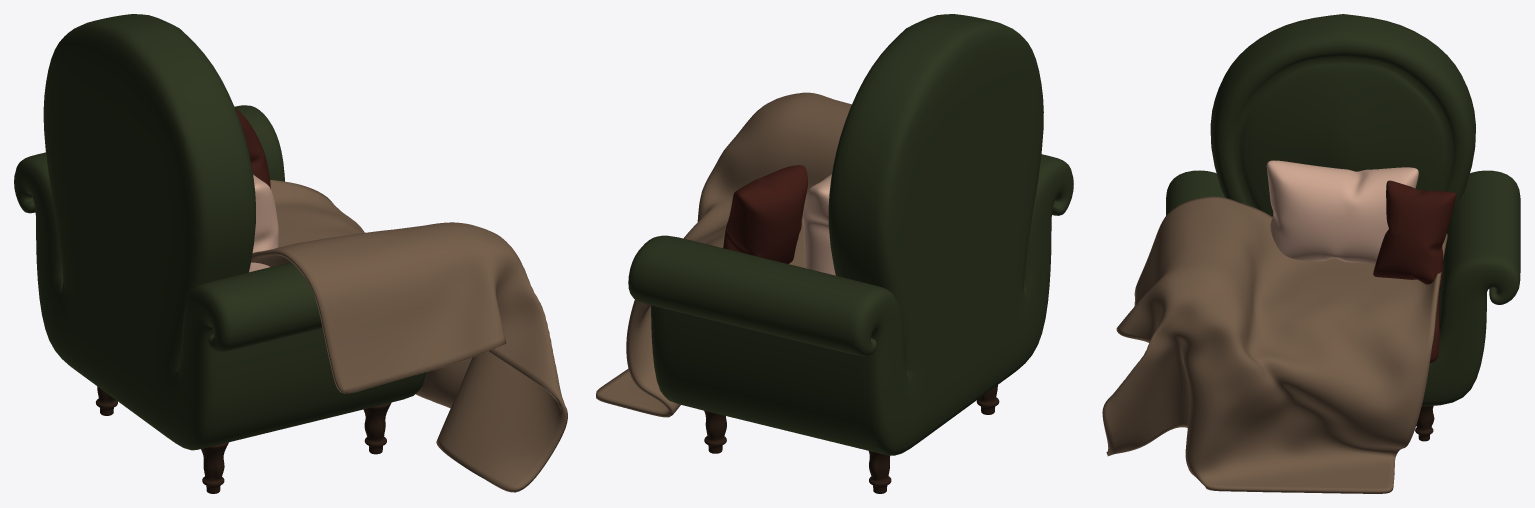
Rendered from chair_1.obj.
3 views of the same model, side by side, from view 1: azimuth 30°, elevation 25°; view 2: azimuth 150°, elevation 25°; view 3: azimuth 270°, elevation 25° (orthographic). The views are drawn at different scales.
Parts seen in each view (by area): view 1: Cube.059, Plane.002, Cylinder.008, Cube.062, Cube.061; view 2: Cube.059, Plane.002, Cube.061, Cube.062, Cylinder.008; view 3: Plane.002, Cube.059, Cube.062, Cube.061, Cylinder.008.
Boxes of the visible parts, x1,y1,x2,y2 form: Cube.059: (14,14,426,450); Plane.002: (251,180,567,492); Cylinder.008: (95,386,391,493); Cube.062: (249,174,278,272); Cube.061: (234,107,270,188); Cube.059: (628,14,1073,455); Plane.002: (596,92,851,417); Cube.061: (723,165,807,263); Cube.062: (803,174,835,275); Cylinder.008: (704,385,999,493); Plane.002: (1102,196,1447,493); Cube.059: (1166,14,1520,406); Cube.062: (1266,160,1418,263); Cube.061: (1373,180,1456,288); Cylinder.008: (1415,405,1434,441).
Size of the model in its own units: 1.63 by 1.92 by 2.08.
